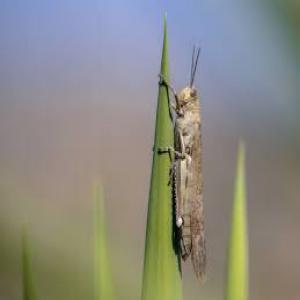locust: (161, 40, 229, 264)
